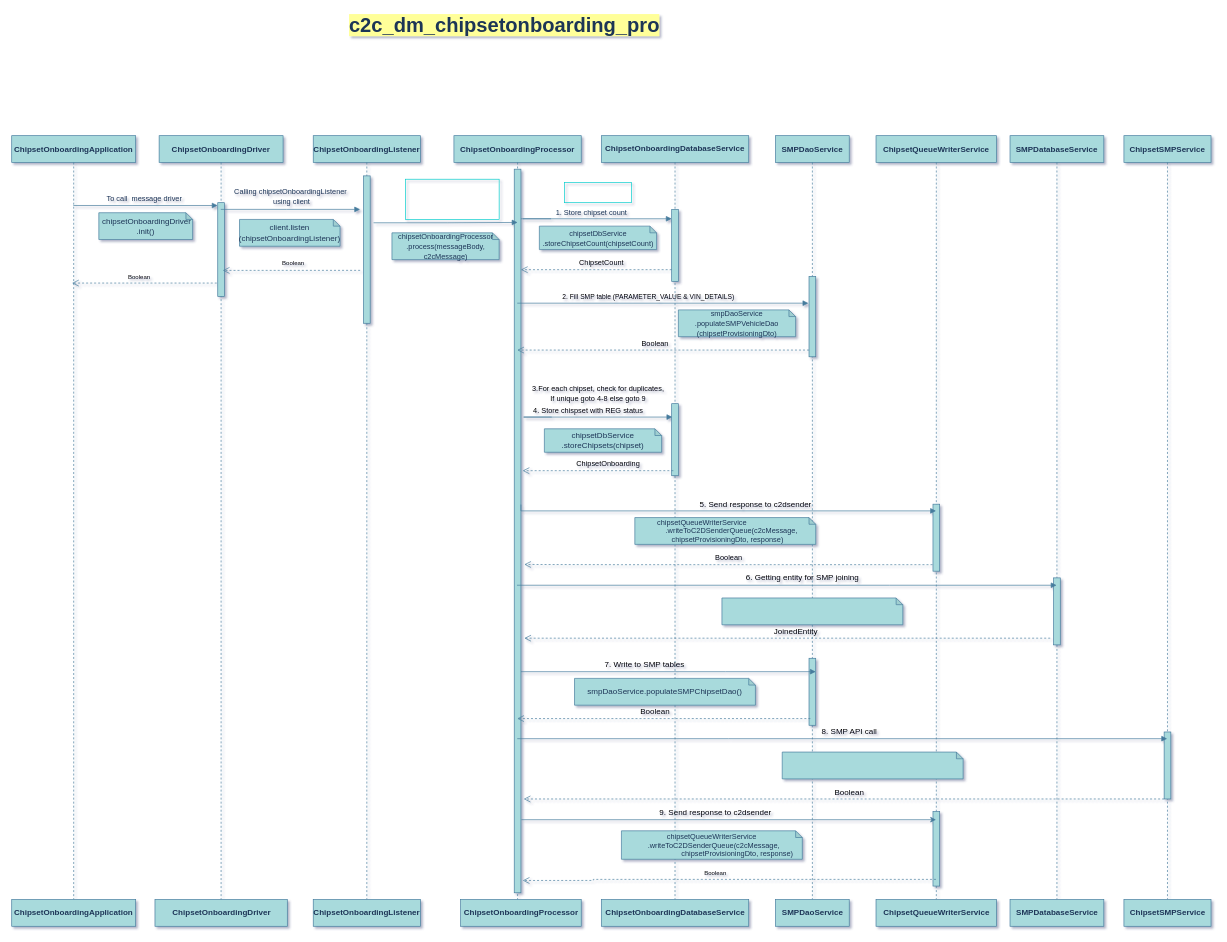
Some shapes in this 1227 by 942 pixel diagram are drawn without their labels. The centre of each missing label's shape, as x and y in pixels:
chipsetSMPService.pushSkuUpdateForVin( chipsetProvisioningDto, chipsetDto): point (872, 765)
If chipsetCount>0, proceed 1 to 3: point (597, 192)
If message_type = ''CHIPSET_PROVISION" and body_encoding_type = 1: point (452, 199)
smpDatabaseService .getJoinedEntity(): point (812, 611)
